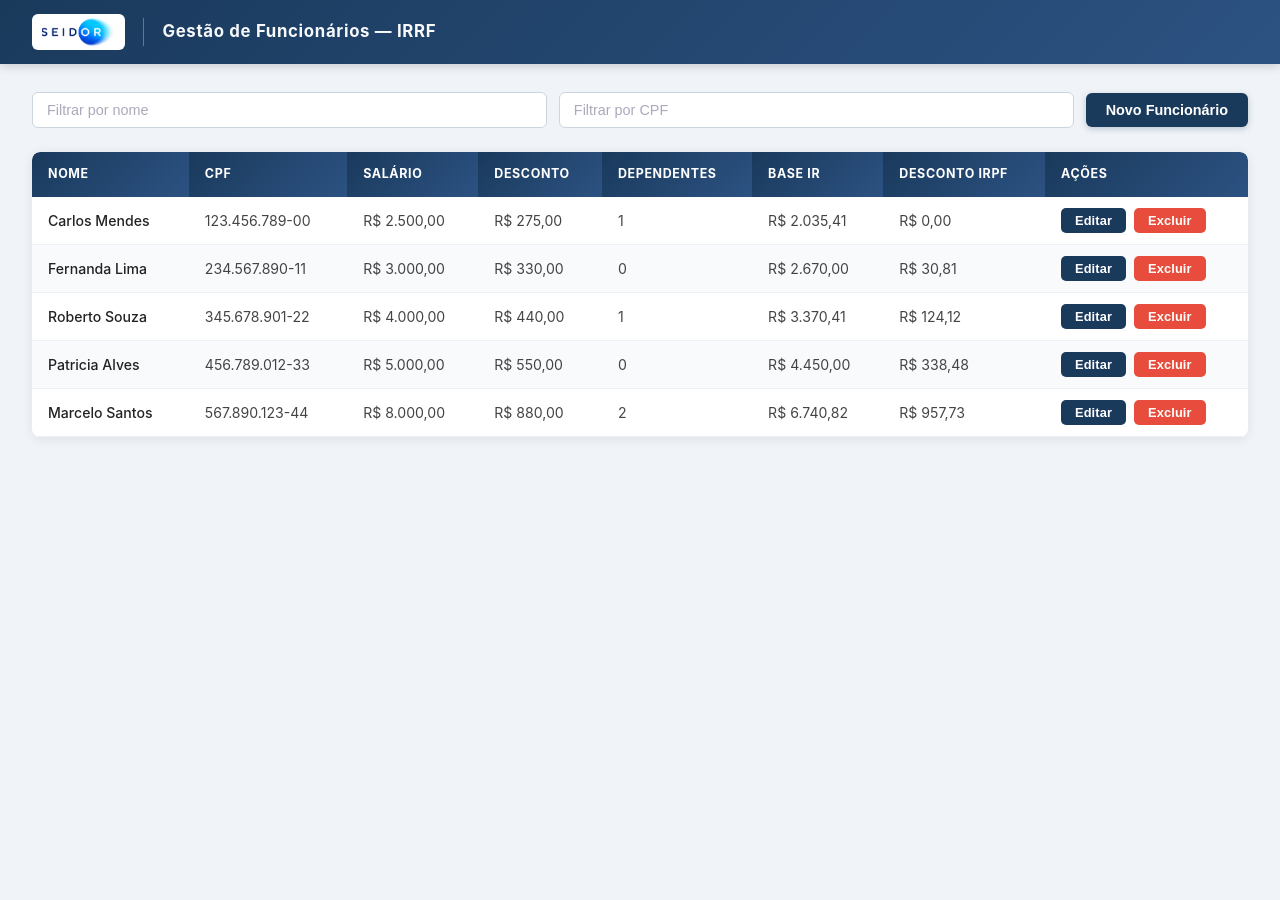
Test case: App — integração › cadastra novo funcionário e o exibe na tabela
abre o formulário de novo cadastro
Click the button "Novo Funcionário". click: (1167, 110)
box: [1086, 93, 1248, 127]
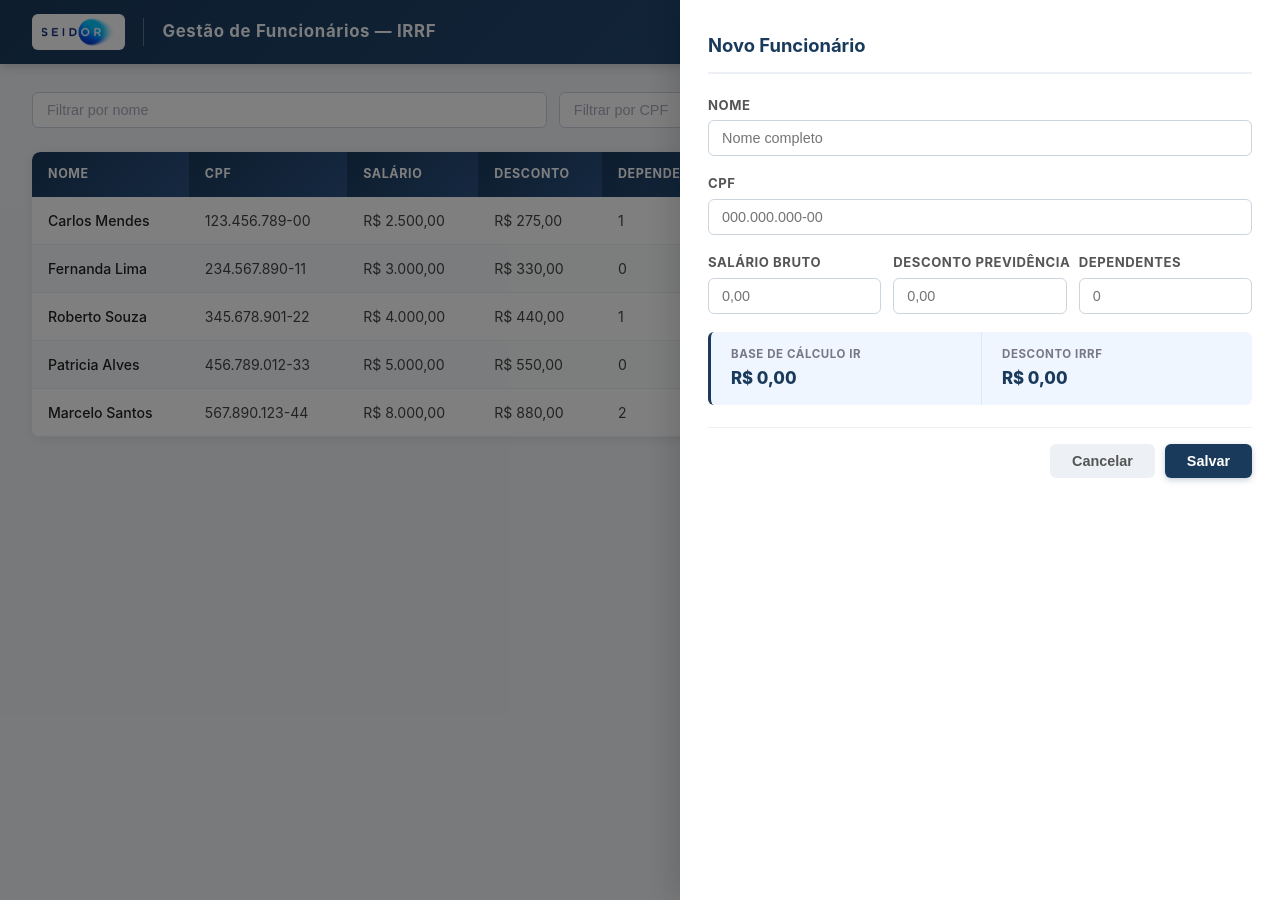
Result: the heading "Novo Funcionário" is shown at [708, 32, 1252, 74]
preenche os campos obrigatórios
Type "Teste Integração" into the field with placeholder "Nome completo". click: (980, 138)
box: [708, 120, 1252, 156]
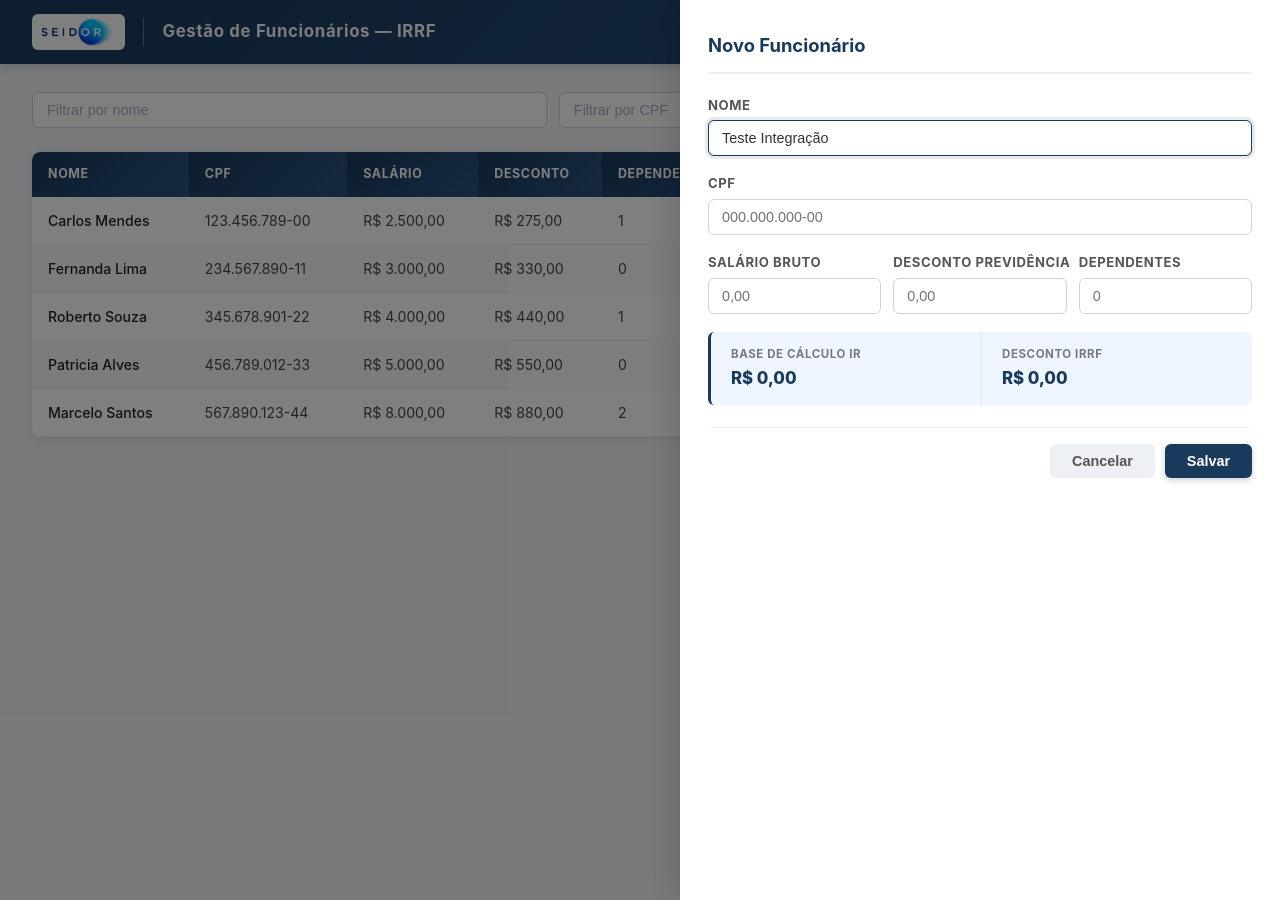
Type "99999999999" into the field with placeholder "000.000.000-00". click: (980, 217)
box: [708, 199, 1252, 235]
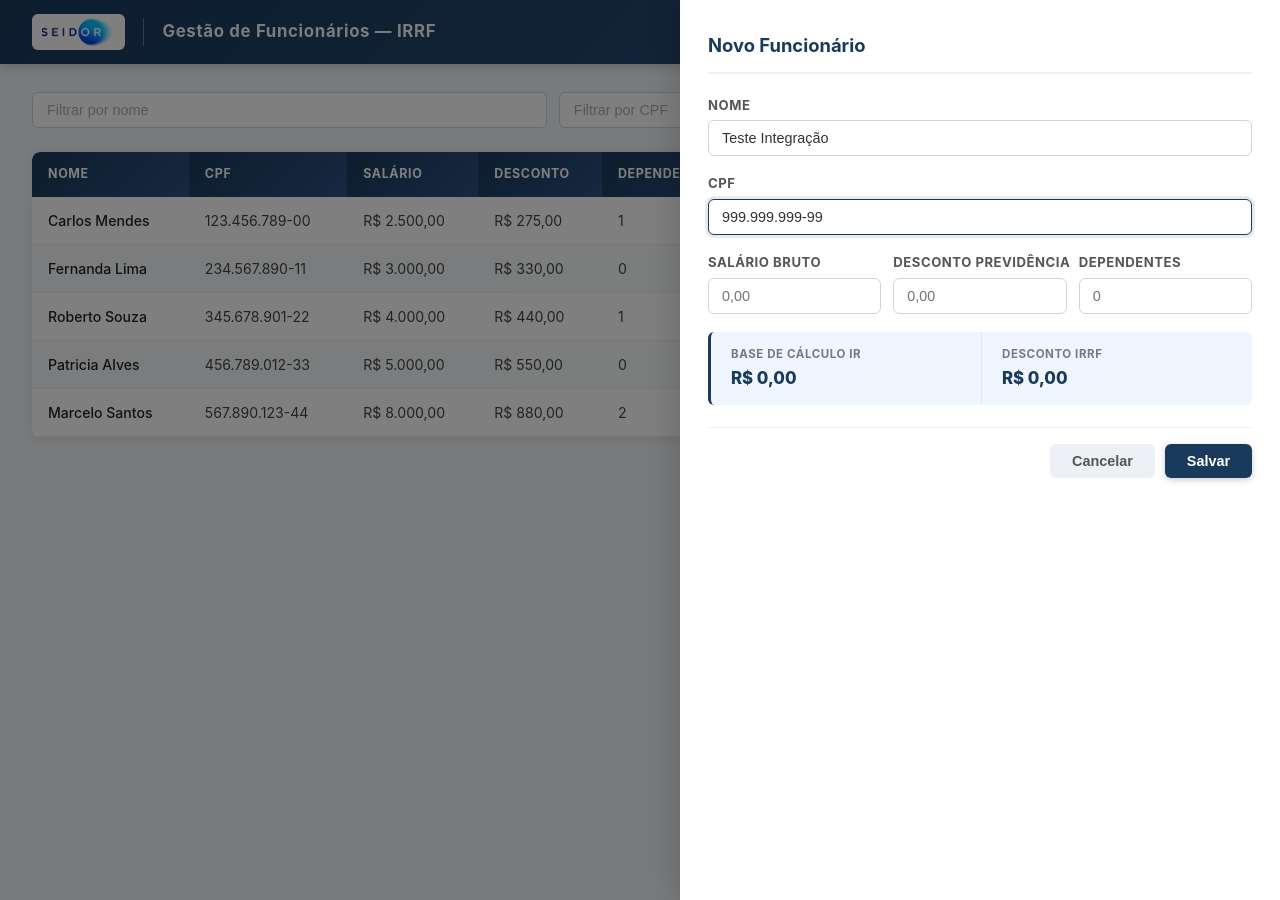
Type "3000" into the number field with placeholder "0,00" below "Salário Bruto". click: (795, 296)
box: [708, 278, 881, 314]
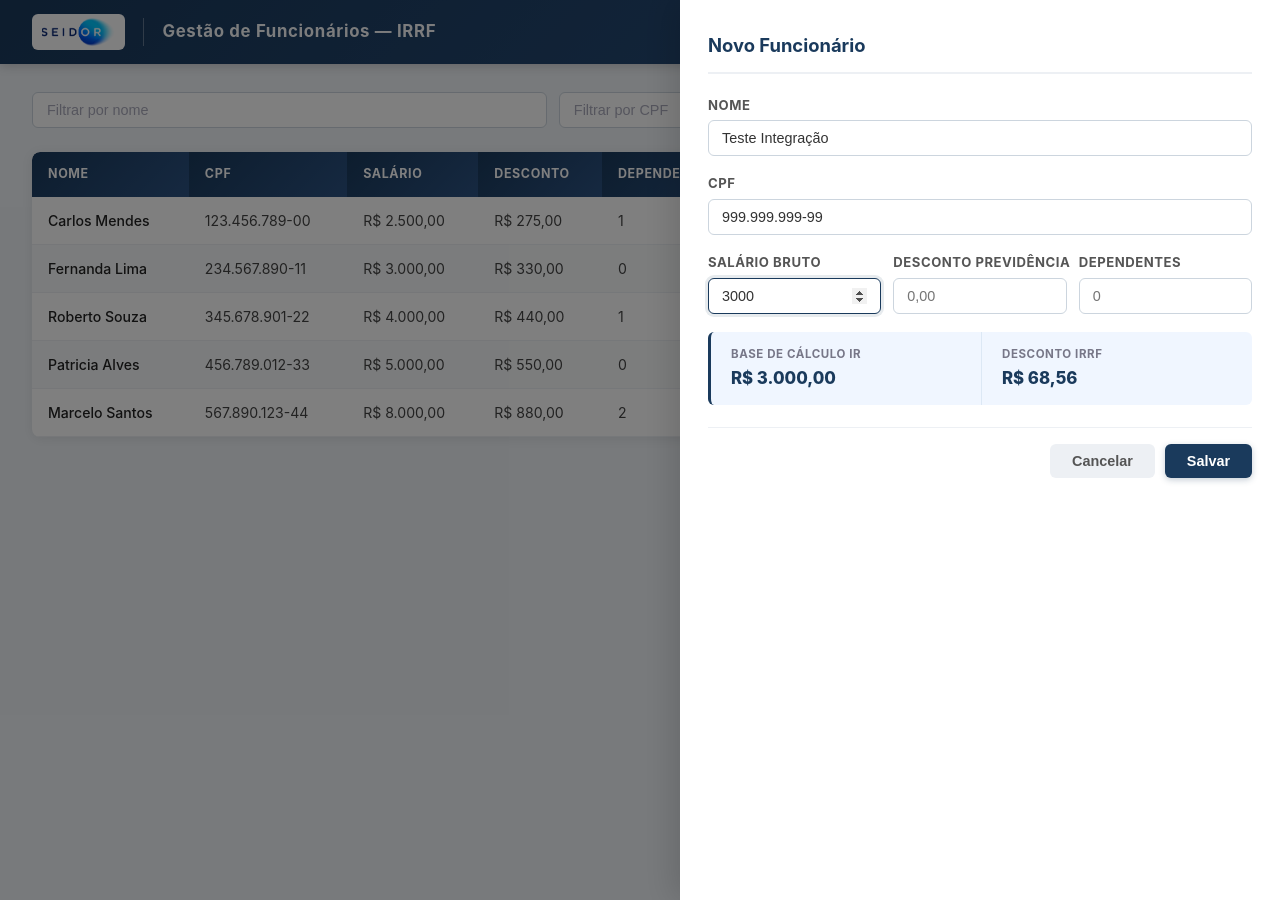
salva e verifica que o novo funcionário aparece (tabela ou card)
Click the button "Salvar". click: (1208, 461)
box: [1165, 444, 1252, 478]
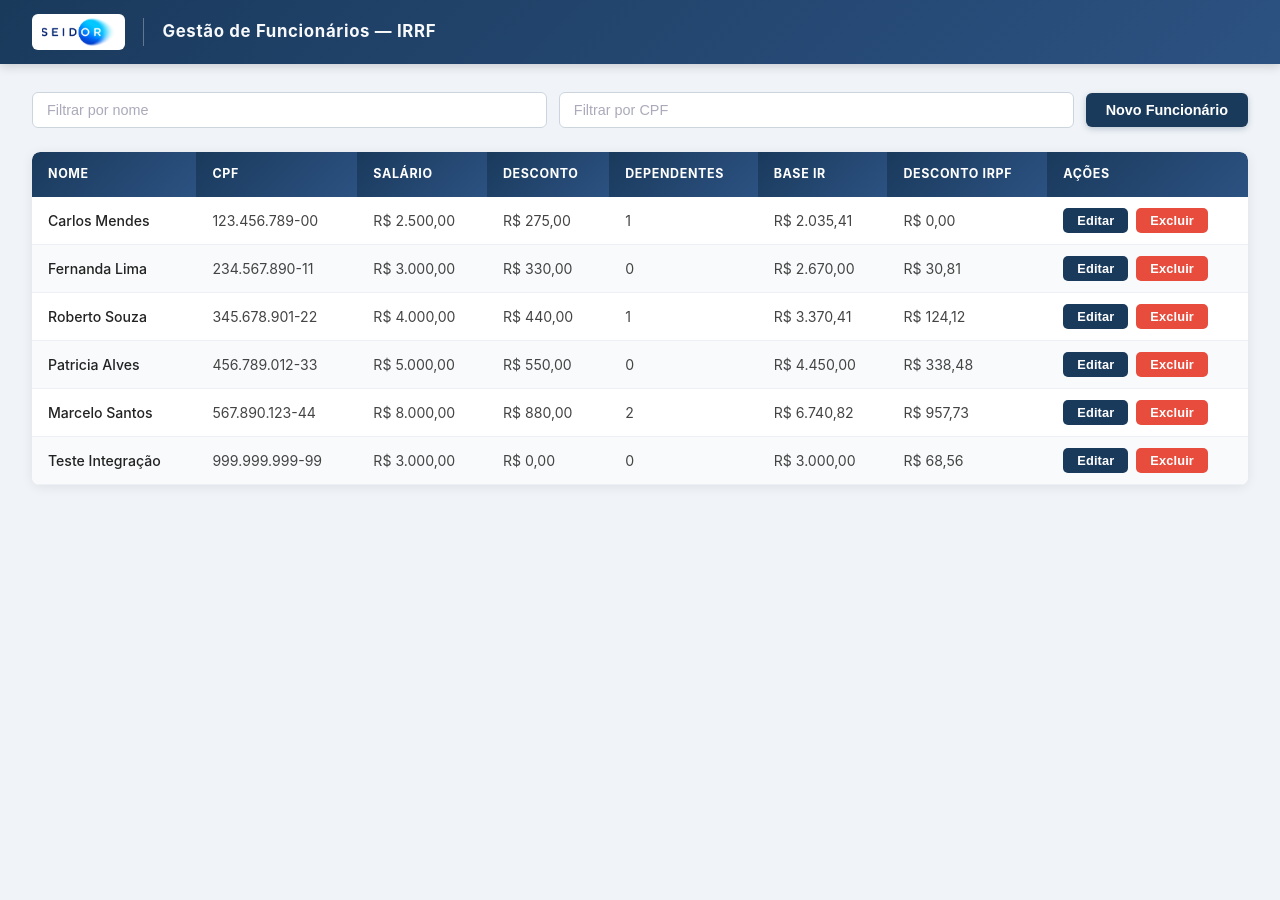
Result: the text "Teste Integração" is shown at [32, 436, 196, 484]
